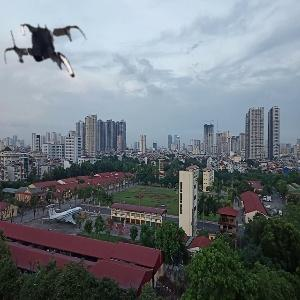drone: (2, 10, 93, 101)
